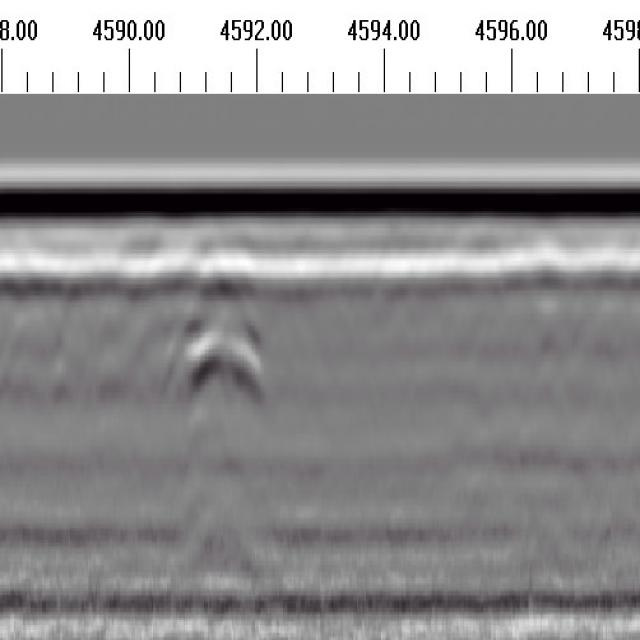loose: (12, 254, 265, 406)
